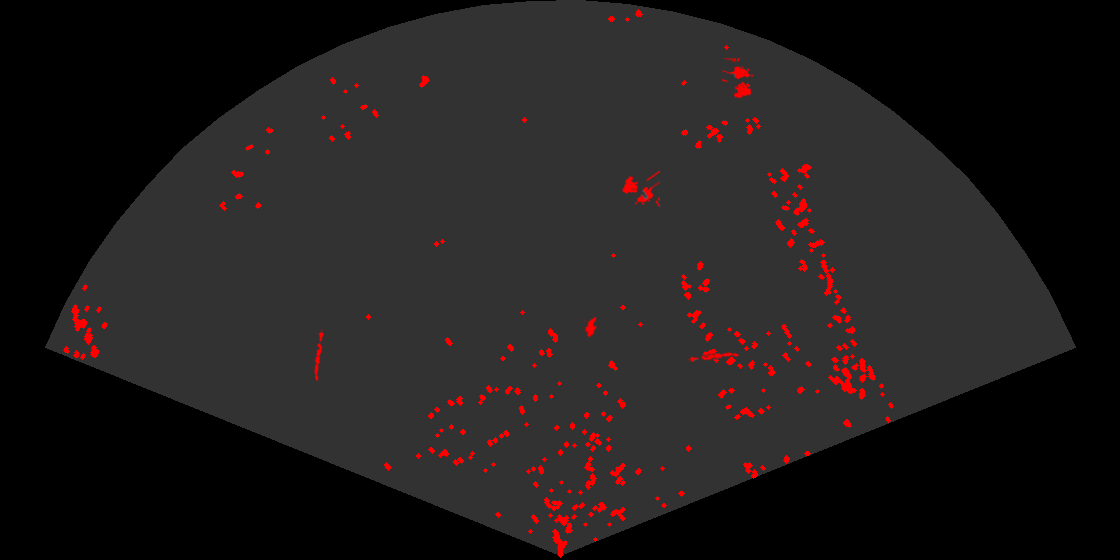AUV: (581, 315, 598, 339)
cage: (621, 168, 660, 209), (722, 58, 755, 100)
chain: (688, 351, 740, 364), (313, 329, 325, 381)
